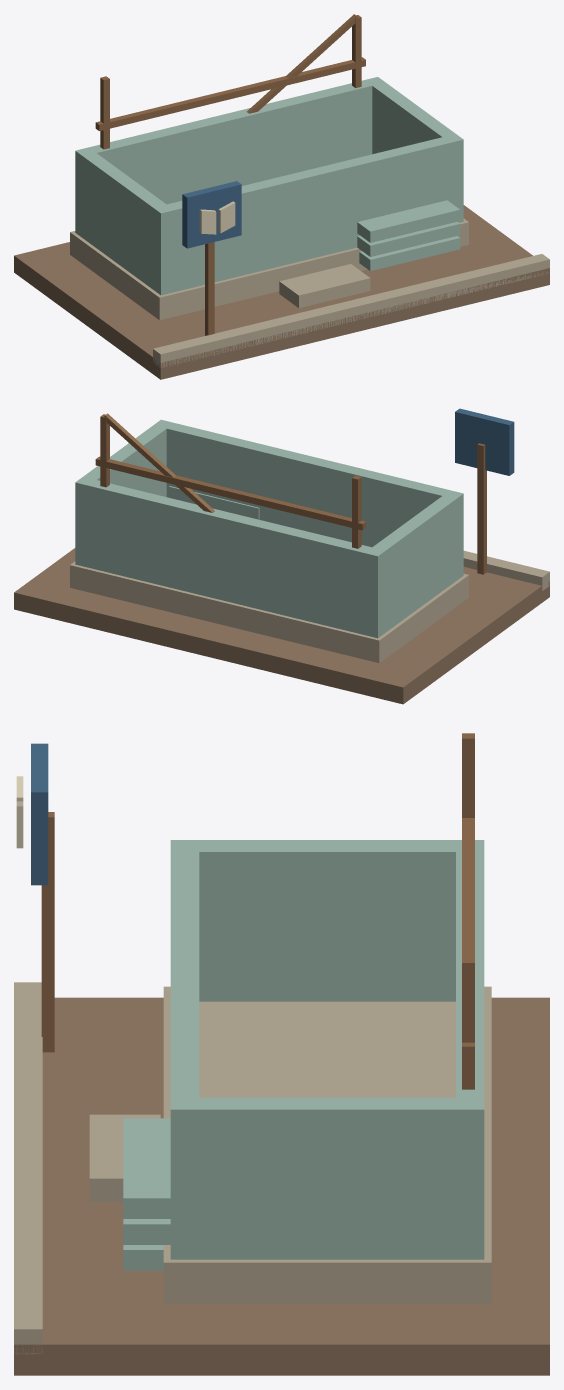
File: library-seabreeze-half-built.glb
The picture shows the model from 3 angles, top to bottom: view 1: azimuth 30°, elevation 25°; view 2: azimuth 150°, elevation 25°; view 3: azimuth 270°, elevation 25°; orthographic projection. The views are drawn at different scales.
Parts seen in each view (by area): view 1: library; view 2: library; view 3: library.
Boxes of the visible parts, x1=… form: library: x1=14, y1=14, x2=549, y2=379; library: x1=14, y1=408, x2=549, y2=704; library: x1=14, y1=733, x2=549, y2=1375.
Bounding box in the file's own units: 2.88 × 1.38 × 1.88.
